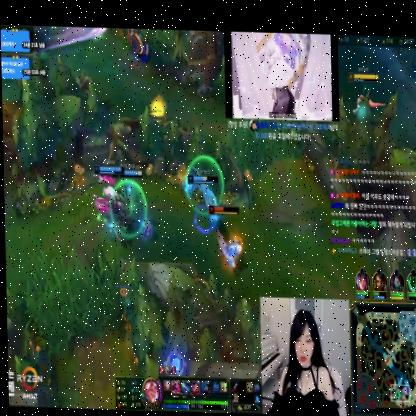donation: (224, 30, 340, 140)
streamer: (268, 308, 338, 414)
